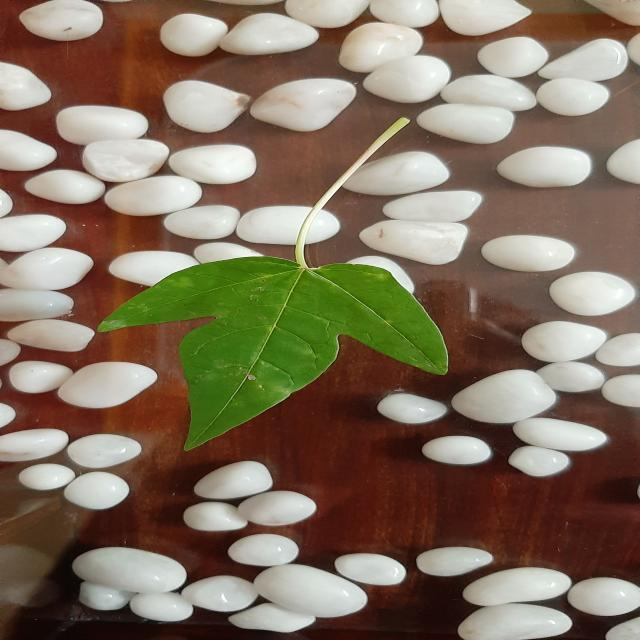papaya: (100, 256, 447, 449)
